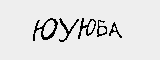А: (107, 20, 125, 37)
Б: (93, 19, 110, 39)
У: (56, 17, 80, 44)
Ю: (31, 17, 59, 43), (78, 17, 98, 39)
